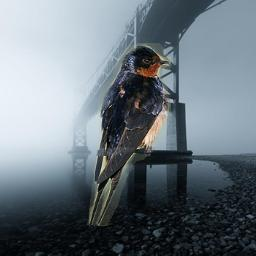Swallow: (85, 43, 171, 226)
